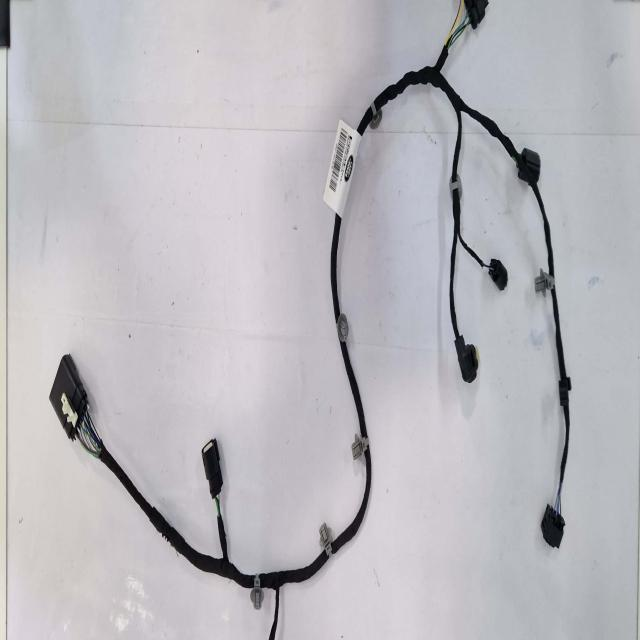Clip: (534, 264, 554, 291), (351, 435, 369, 459), (251, 577, 263, 612), (321, 523, 333, 555), (450, 176, 464, 201), (338, 317, 350, 344), (370, 99, 382, 126)
Connector: (50, 357, 88, 441), (202, 439, 223, 498), (458, 338, 481, 384), (541, 506, 563, 550), (516, 146, 540, 184), (466, 0, 490, 32), (490, 263, 510, 292)
Gape: (77, 400, 107, 462), (444, 5, 473, 56), (553, 478, 566, 515), (217, 490, 227, 520)
Info: (326, 125, 364, 222)
MHEV_N11_Cable: (71, 215, 371, 640), (357, 43, 518, 376), (554, 292, 570, 498), (535, 187, 555, 273), (560, 379, 572, 406)
